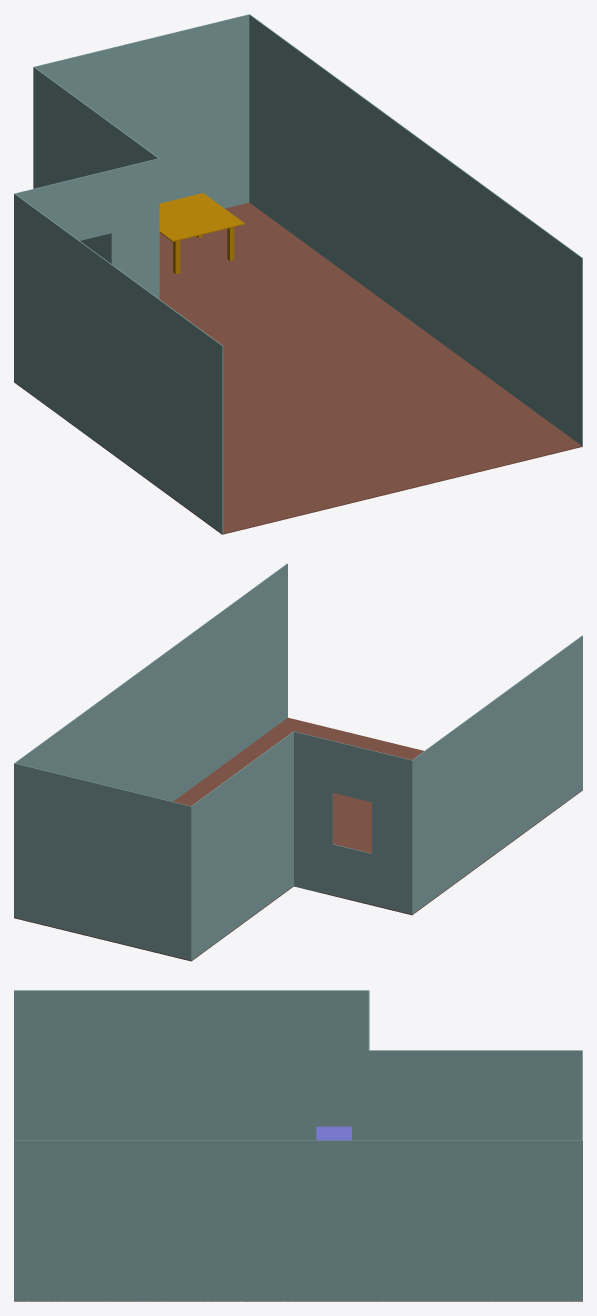
File: room.fbx
3 renders of one model, top to bottom at view 1: azimuth 30°, elevation 25°; view 2: azimuth 150°, elevation 25°; view 3: azimuth 270°, elevation 25°, orthographic. The views are drawn at different scales.
Visible parts, largest first — view 1: pPlane1, pPlane4, pPlane7, pPlane5, pPlane3, pPlane6, pCube6; view 2: pPlane4, pPlane5, pPlane7, pPlane3, pPlane6, pPlane1; view 3: pPlane4, pPlane7, pPlane6, pPlane1, pCube1.
Boxes of the visible parts, <box> form: pPlane1: <box>14,202,582,534</box>; pPlane4: <box>249,14,582,446</box>; pPlane7: <box>14,193,223,533</box>; pPlane5: <box>33,14,249,208</box>; pPlane3: <box>15,158,159,298</box>; pPlane6: <box>33,67,158,263</box>; pCube6: <box>159,193,244,273</box>; pPlane4: <box>14,563,287,917</box>; pPlane5: <box>14,763,191,960</box>; pPlane7: <box>411,635,582,914</box>; pPlane3: <box>293,731,411,914</box>; pPlane6: <box>191,731,293,959</box>; pPlane1: <box>14,717,582,961</box>; pPlane4: <box>14,1140,582,1301</box>; pPlane7: <box>14,990,369,1140</box>; pPlane6: <box>369,1050,582,1140</box>; pPlane1: <box>14,1301,582,1301</box>; pCube1: <box>316,1126,351,1140</box>.
Bounding box in the file's own units: 20 × 10 × 32.
